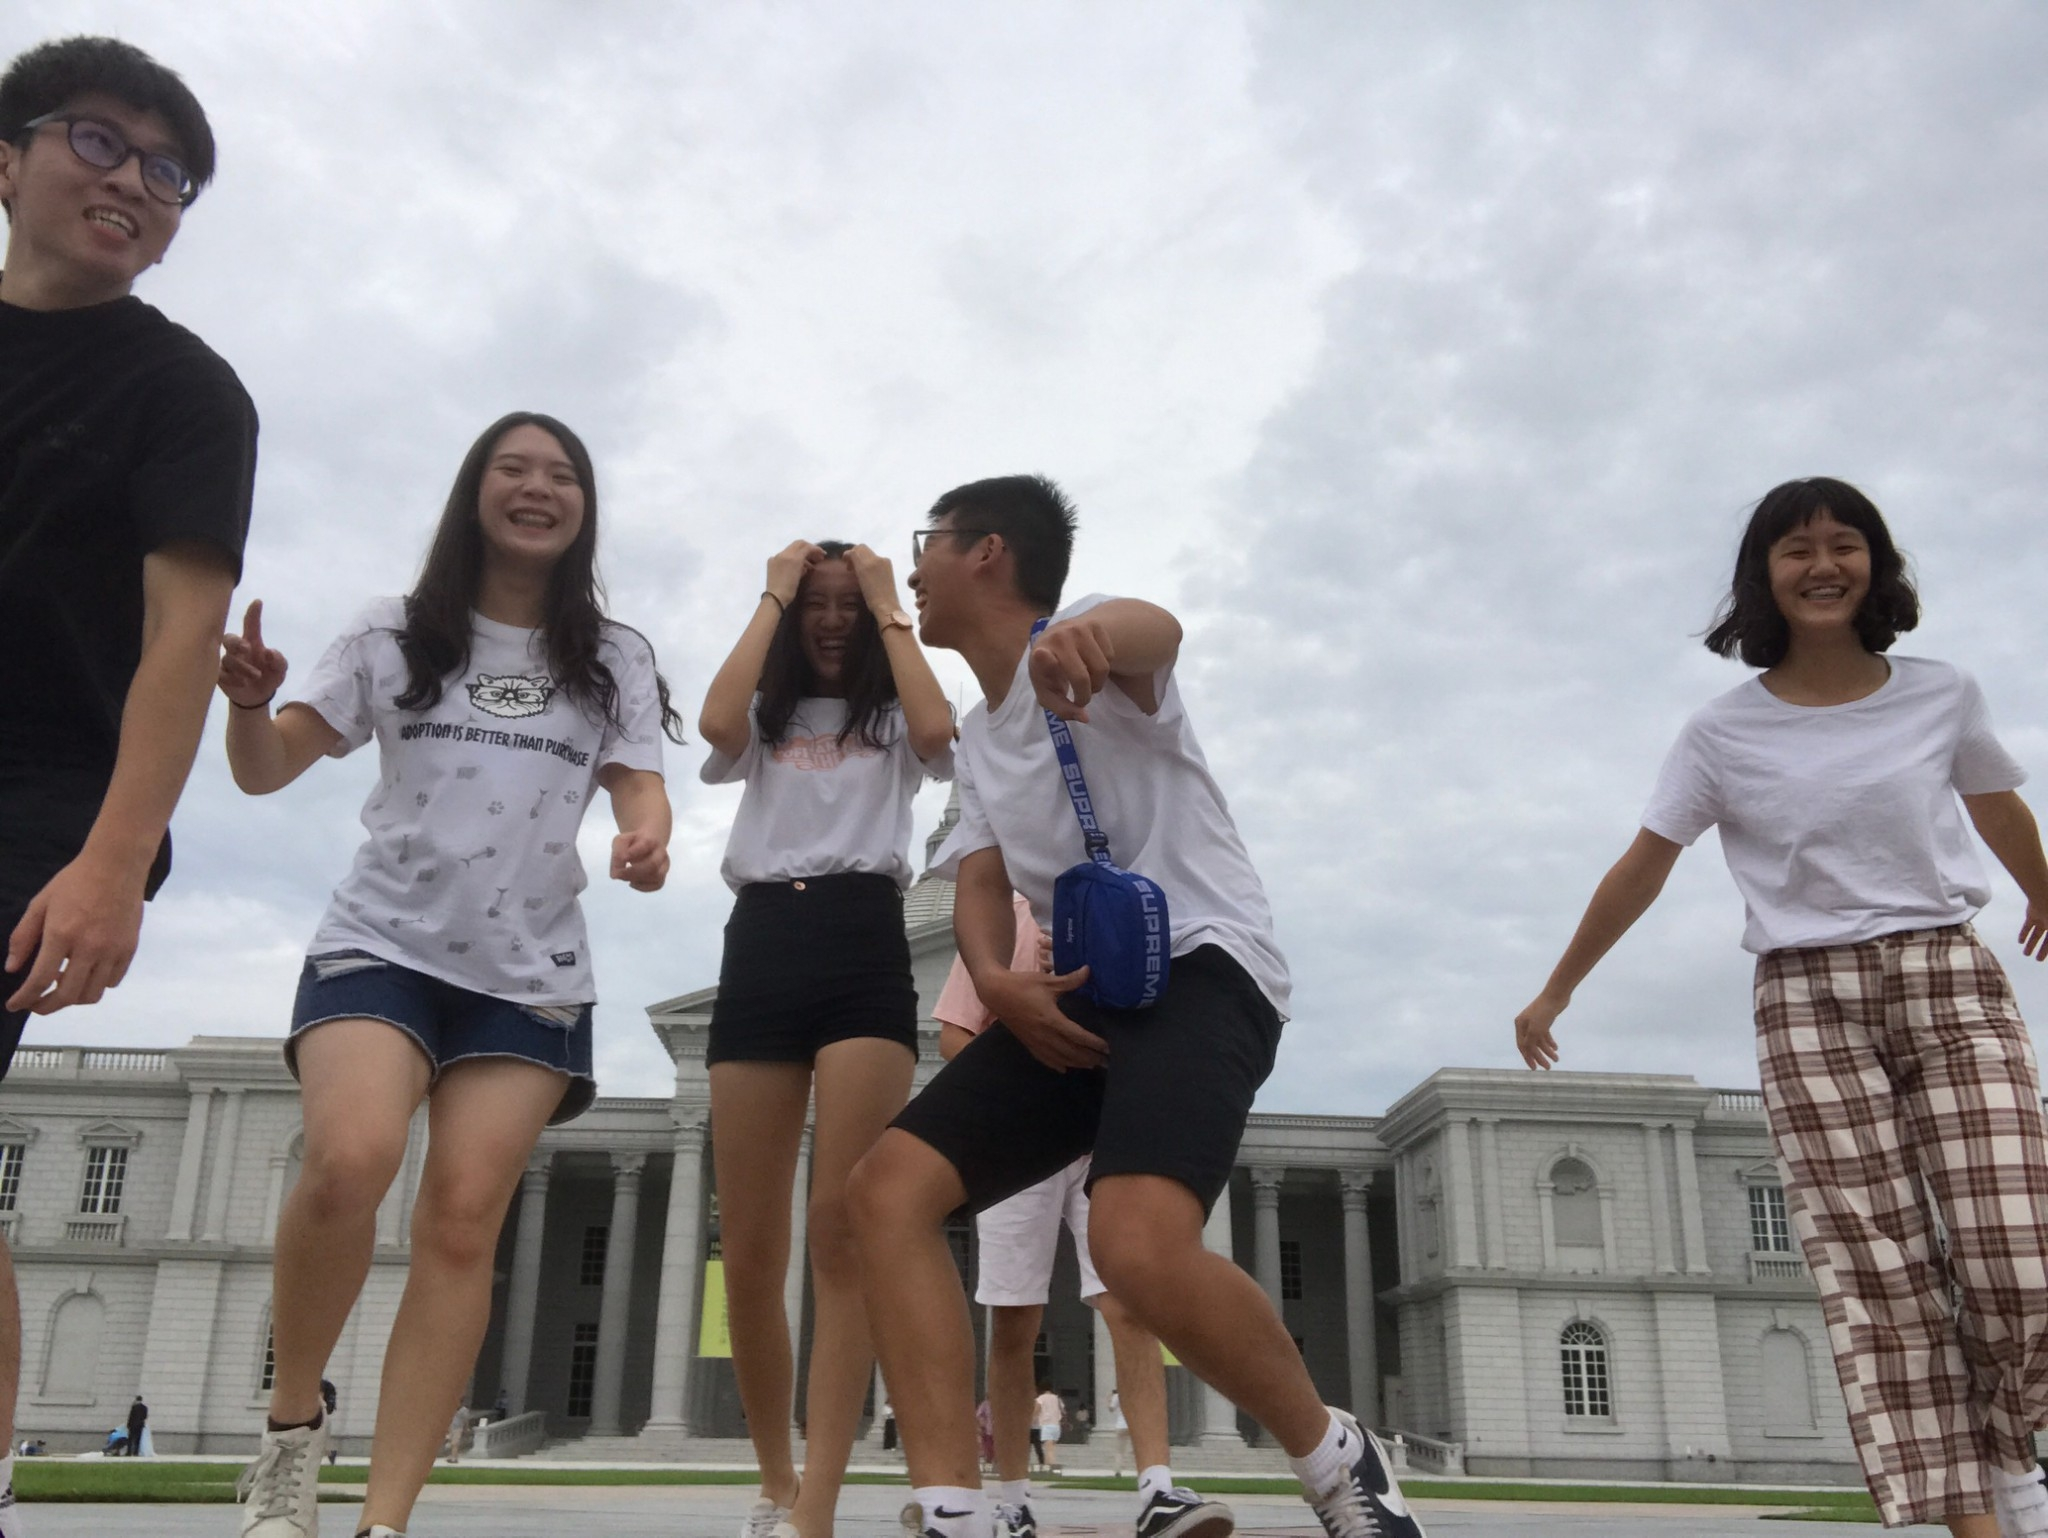people: (1675, 479, 2048, 1538), (890, 479, 1246, 1538), (313, 414, 619, 1538), (7, 41, 257, 1097), (713, 535, 893, 1538)
